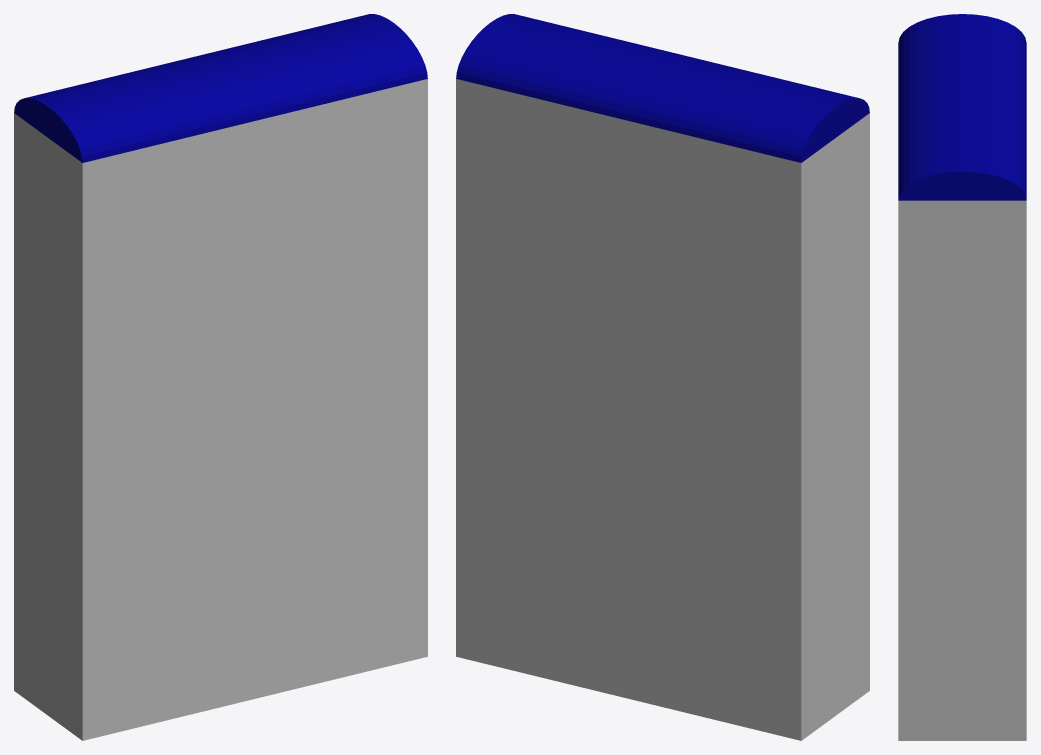
File: body_l_distal_springvround_collision.obj
3 views of the same model, side by side, from view 1: azimuth 30°, elevation 25°; view 2: azimuth 150°, elevation 25°; view 3: azimuth 270°, elevation 25° (orthographic). The views are drawn at different scales.
Visible parts, largest first — view 1: body_l_distal_springvround_collision_Cube.001; view 2: body_l_distal_springvround_collision_Cube.001; view 3: body_l_distal_springvround_collision_Cube.001.
Part boxes in pixels (x1,y1,x2,y2): body_l_distal_springvround_collision_Cube.001: (14, 14, 427, 740); body_l_distal_springvround_collision_Cube.001: (456, 14, 869, 740); body_l_distal_springvround_collision_Cube.001: (898, 14, 1026, 740).
Size of the model in its own units: 0.032 by 0.0539 by 0.011.
